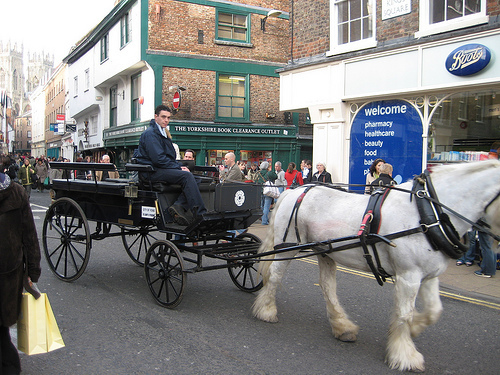horse: (250, 156, 500, 373)
